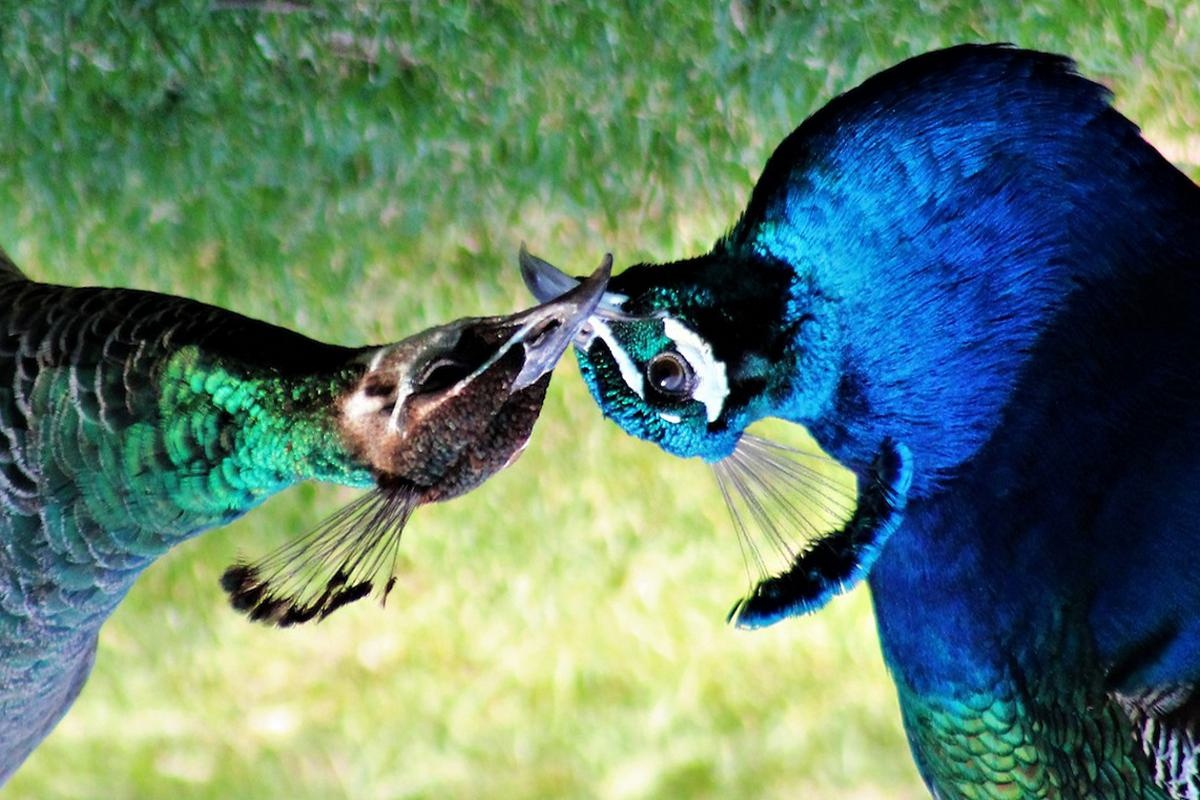peacock: (615, 122, 1200, 800)
